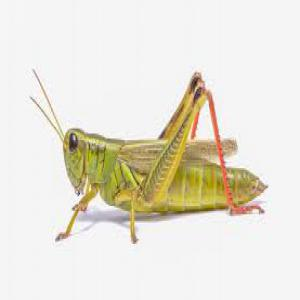locust: (38, 95, 271, 227)
